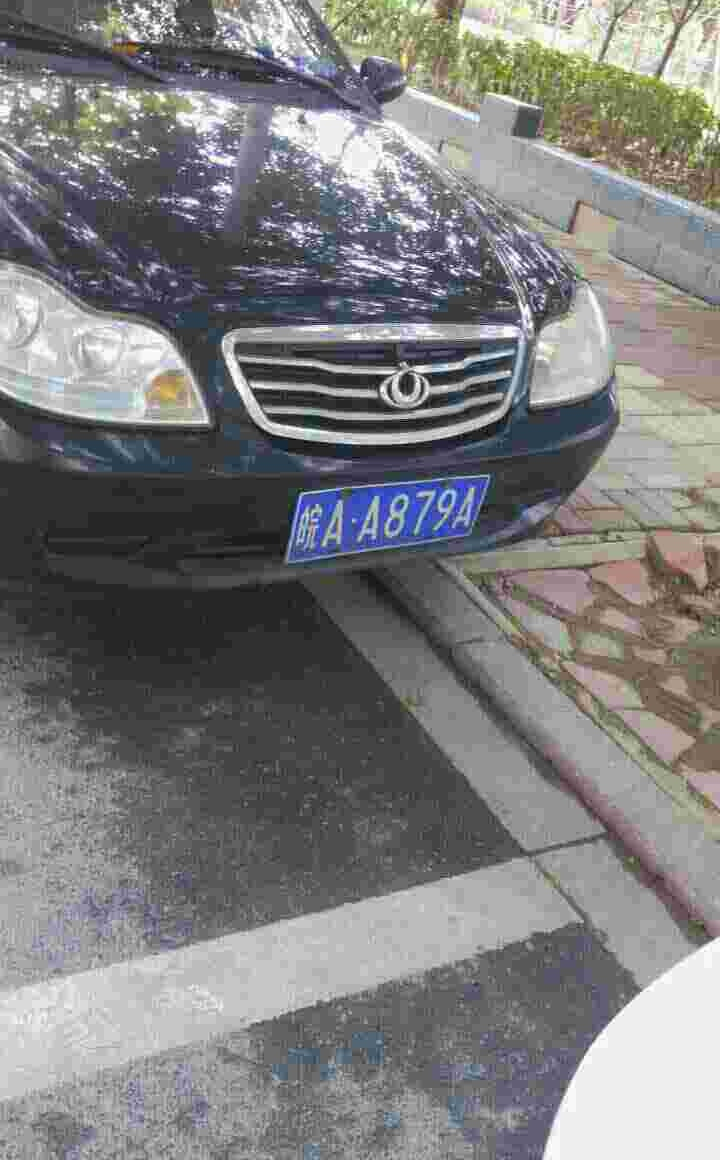plate: (289, 468, 496, 564)
